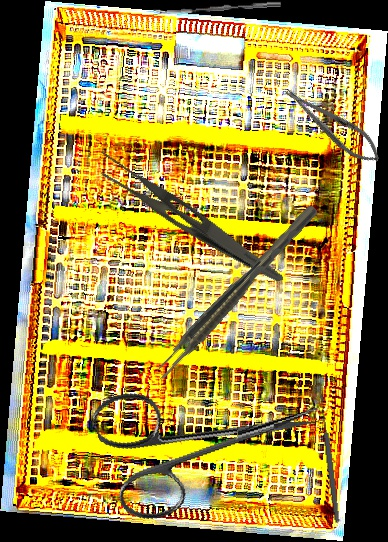Dressing Forceps: (84, 146, 298, 286)
Iris Scissors: (89, 349, 334, 528)
Needle Holder: (278, 78, 388, 172)
Surgical Spoon: (318, 394, 341, 523), (152, 0, 282, 16)
Tissue Forceps: (149, 203, 325, 383)
